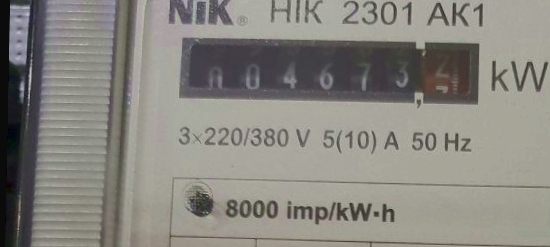0: (204, 61, 225, 92), (242, 60, 261, 91)
2: (431, 48, 452, 81)
3: (392, 56, 410, 91)
4: (280, 57, 299, 92)
6: (314, 58, 336, 92)
7: (352, 58, 375, 96)
screen: (174, 31, 484, 114)
